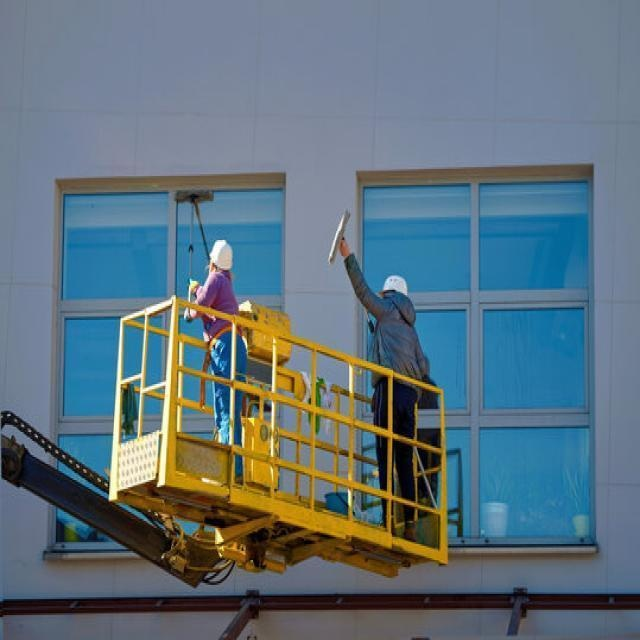Arnes_seguridad: (208, 326, 241, 352)
